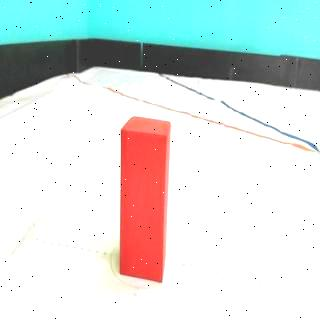redbox: (119, 115, 170, 282)
